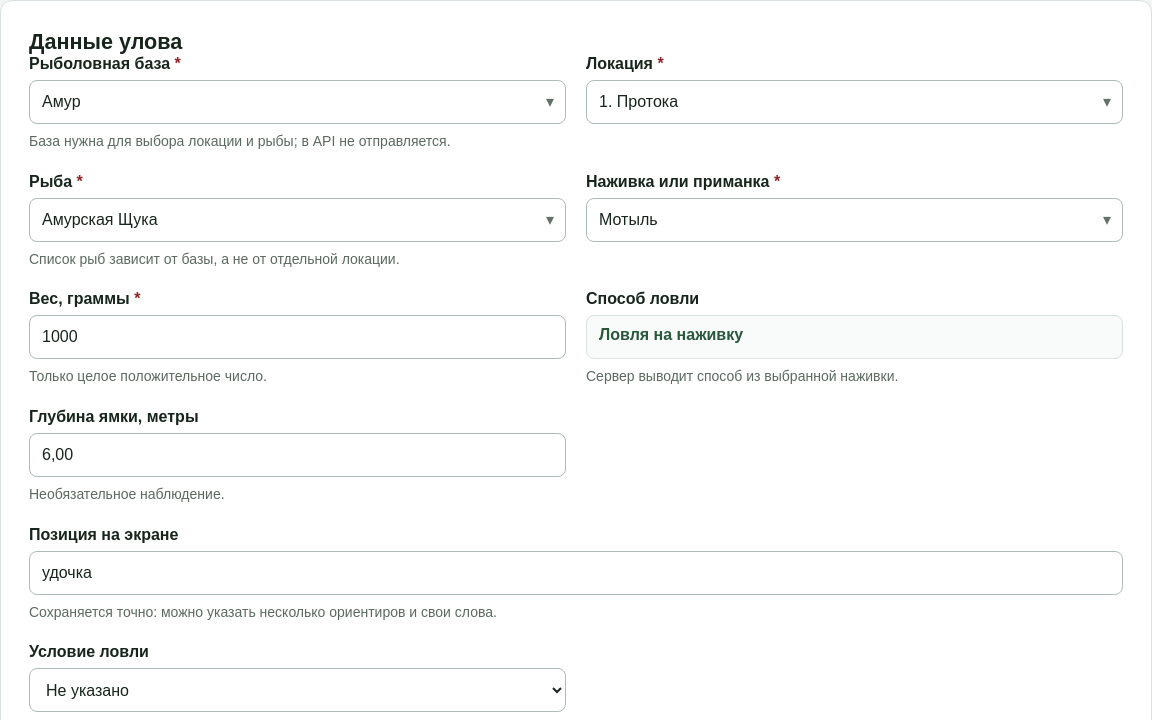
it: CatchReportForm › uses persisted method when the same bait id now has another catalog type
The width and height of the screenshot is (1152, 720).
Expected: the text "Ловля на наживку" is shown, [586,315,1123,359]
Click the dropdown labelled "Наживка или приманка *" at (854, 220), box [586,198,1123,242]
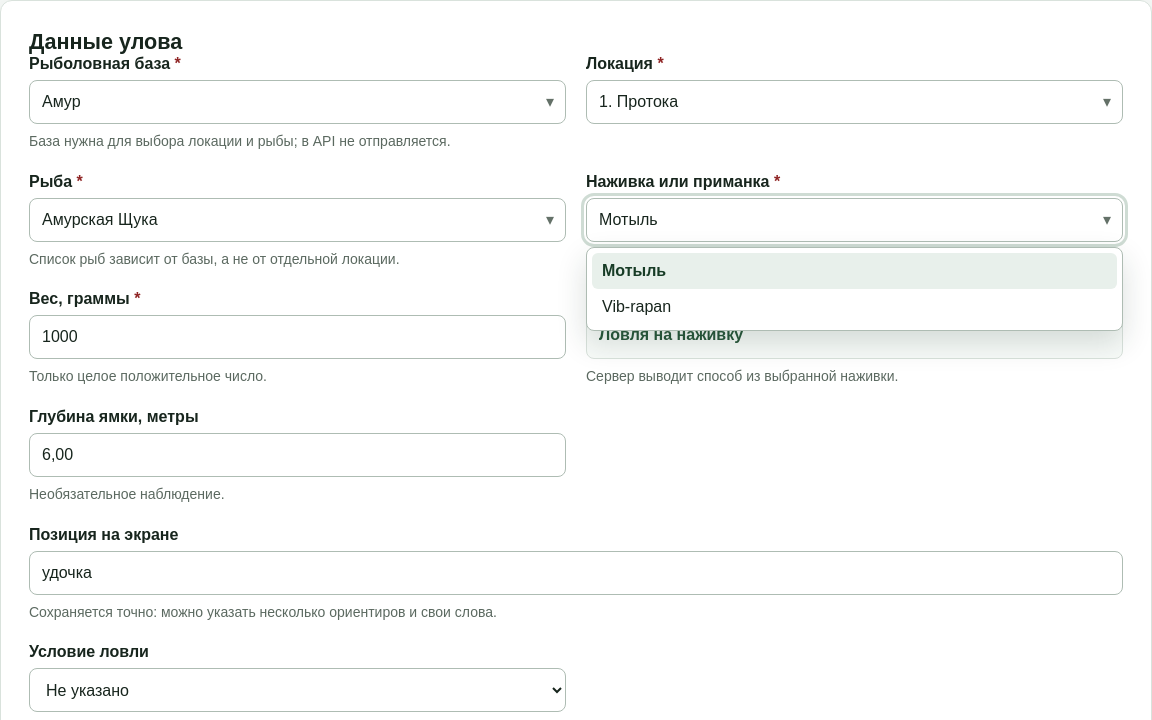
Click the option "Vib-rapan" at (637, 306), box [602,298,671,315]
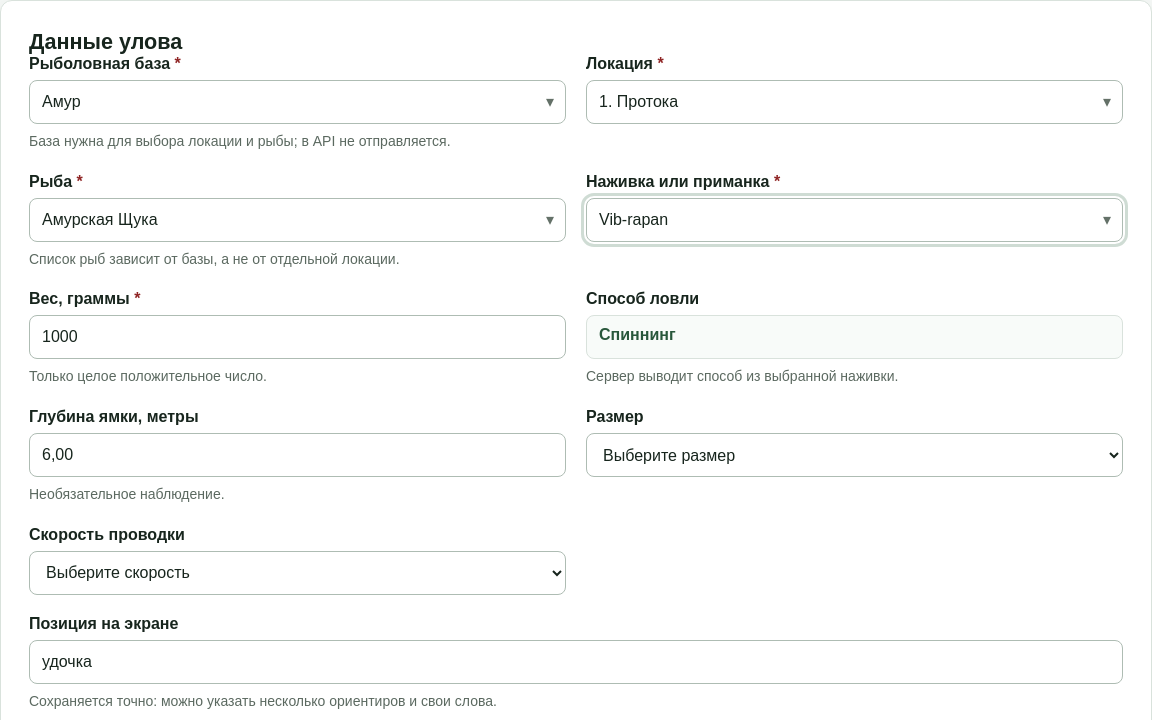
Expected: the text "Спиннинг" is shown, [586,315,1123,359]
Expected: the dropdown labelled "Размер" is shown, [586,433,1123,477]
